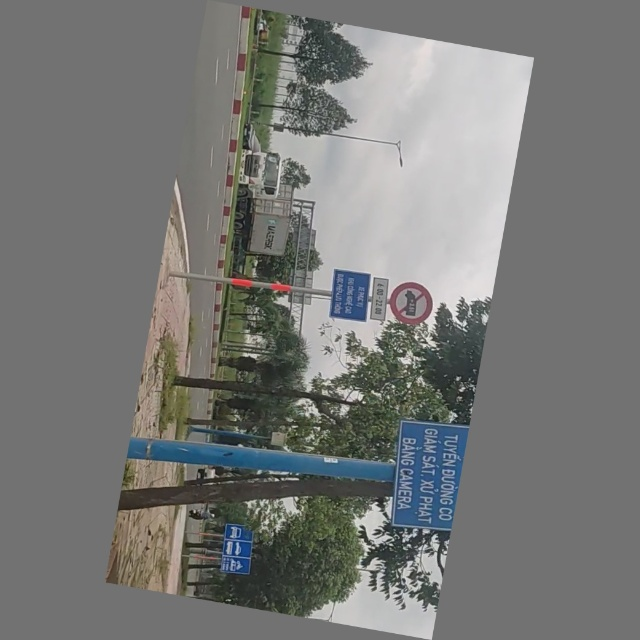P.106a*Xe tai: (387, 276, 438, 328)
